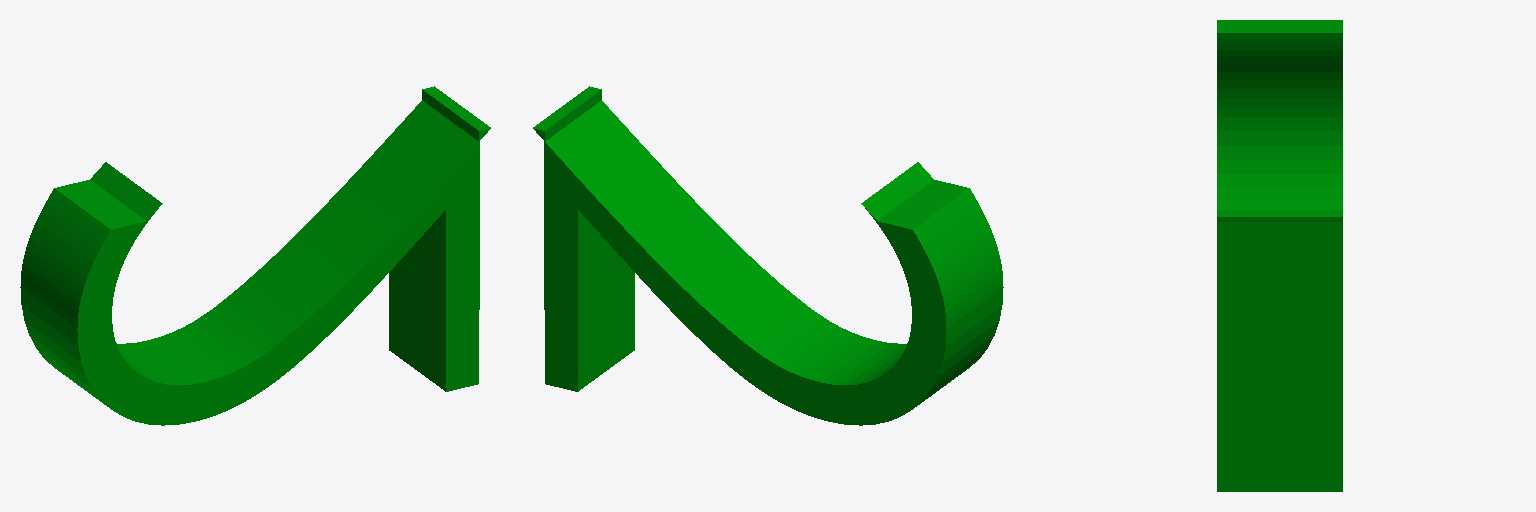
robot.urdf — ring:
<?xml version="0.0" ?>
<robot name="ring">
    <material name="green">
        <color rgba="0.005953 0.613846 0.061735 1"/>
    </material>

    <link name="baseLink">
        <!-- from lego/lego.urdf -->
        <contact>
            <lateral_friction value="1.0"/>
            <rolling_friction value="0.0"/>
            <contact_cfm value="0.0"/>
            <contact_erp value="1.0"/>
        </contact>
        <inertial>
            <origin rpy="0 0 0" xyz="0 0 0"/>
            <mass value="0.5"/>
            <inertia ixx="1" ixy="0" ixz="0" iyy="1" iyz="0" izz="1"/>
        </inertial>
        <visual>
            <origin rpy="0 0 0" xyz="0 0 0"/>
            <geometry>
                <!--        radius: 10mm, depth: 14.5mm-->
                <mesh filename="meshes/2.obj" scale="1 1 1"/>
                <!--        <box size="0.002 0.002 0.002"/>-->
            </geometry>
            <material name="green"/>
        </visual>
        <collision>
            <origin rpy="0 0 0" xyz="0 0 0"/>
            <geometry>
                <mesh filename="meshes/2_vhacd.obj" scale="1 1 1"/>
                       <!-- <box size="0.002 0.002 0.002"/> -->
            </geometry>
        </collision>
    </link>

</robot>

--- Render facts (derived) ---
The picture shows the robot from 3 angles, left to right: view 1: azimuth 30°, elevation 25°; view 2: azimuth 150°, elevation 25°; view 3: azimuth 270°, elevation 25°; orthographic projection.
Robot: ring — 1 links, 0 joints (none); root link baseLink; default pose: every joint at zero.
Visible links, largest first — view 1: baseLink; view 2: baseLink; view 3: baseLink.
Boxes of the visible links, bbox=[...] form: baseLink: bbox=[20, 86, 490, 425]; baseLink: bbox=[533, 86, 1003, 425]; baseLink: bbox=[1217, 20, 1342, 491].
Size in the robot's own frame: 2.68 by 0.64 by 1.6 metres.
Meshes: 1 distinct files referenced, 1 mesh visuals loaded (1 OBJ).